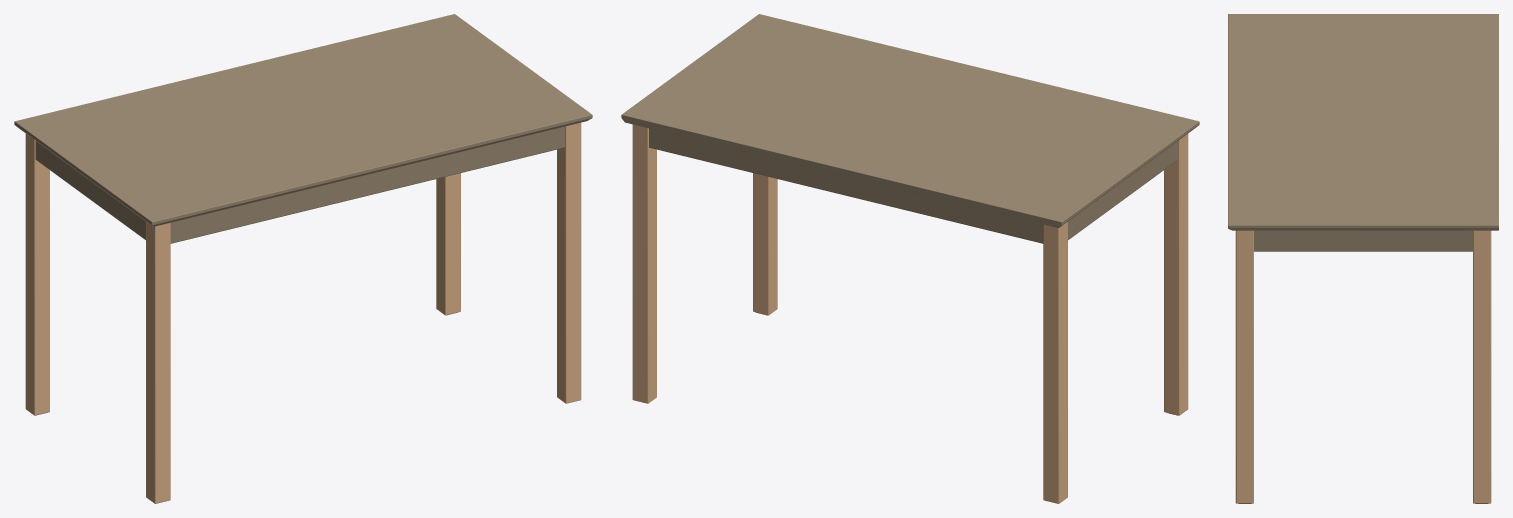
File: table.fbx
3 views of the same model, side by side, from view 1: azimuth 30°, elevation 25°; view 2: azimuth 150°, elevation 25°; view 3: azimuth 270°, elevation 25° (orthographic).
Visible parts, largest first — view 1: Desk Top_001, Front_001, Leg_001, Leg_002, Leg_003, Leg_004, Side_002; view 2: Desk Top_001, Front_002, Leg_003, Leg_004, Leg_001, Leg_002, Side_002; view 3: Desk Top_001, Leg_002, Leg_004, Side_001.
Boxes of the visible parts, left/top/right/bottom form: Desk Top_001: left=14, top=14, right=592, bottom=226; Front_001: left=170, top=126, right=564, bottom=243; Leg_001: left=146, top=222, right=170, bottom=503; Leg_002: left=557, top=122, right=581, bottom=403; Leg_003: left=25, top=134, right=49, bottom=415; Leg_004: left=436, top=173, right=460, bottom=315; Side_002: left=35, top=141, right=145, bottom=239; Desk Top_001: left=621, top=14, right=1199, bottom=228; Front_002: left=649, top=128, right=1043, bottom=243; Leg_003: left=1043, top=222, right=1067, bottom=503; Leg_004: left=632, top=124, right=656, bottom=403; Leg_001: left=1164, top=134, right=1188, bottom=415; Leg_002: left=753, top=173, right=777, bottom=315; Side_002: left=1068, top=141, right=1178, bottom=239; Desk Top_001: left=1228, top=14, right=1498, bottom=230; Leg_002: left=1235, top=230, right=1253, bottom=503; Leg_004: left=1473, top=230, right=1491, bottom=503; Side_001: left=1254, top=230, right=1472, bottom=251.
Size of the model in its own units: 122 by 76.13 by 66.04.
